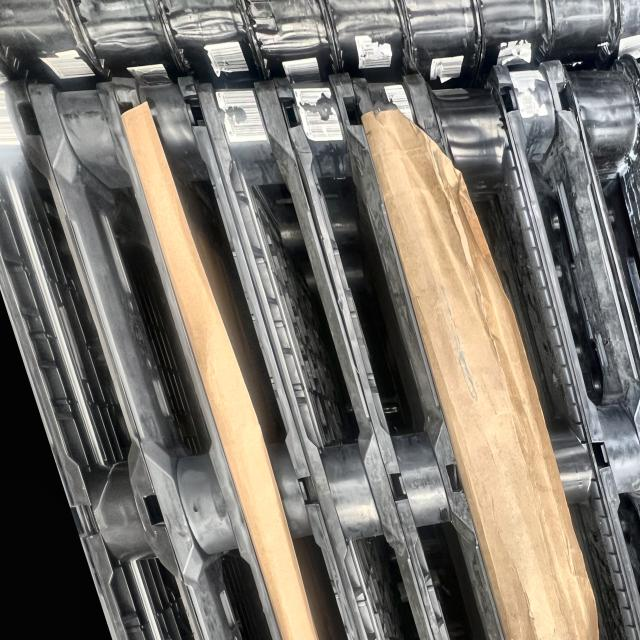igps: (100, 69, 376, 640), (21, 71, 292, 640), (347, 68, 604, 640), (192, 73, 442, 640), (269, 67, 509, 640), (422, 55, 640, 640), (0, 74, 210, 640), (481, 50, 640, 640), (537, 47, 640, 461)
